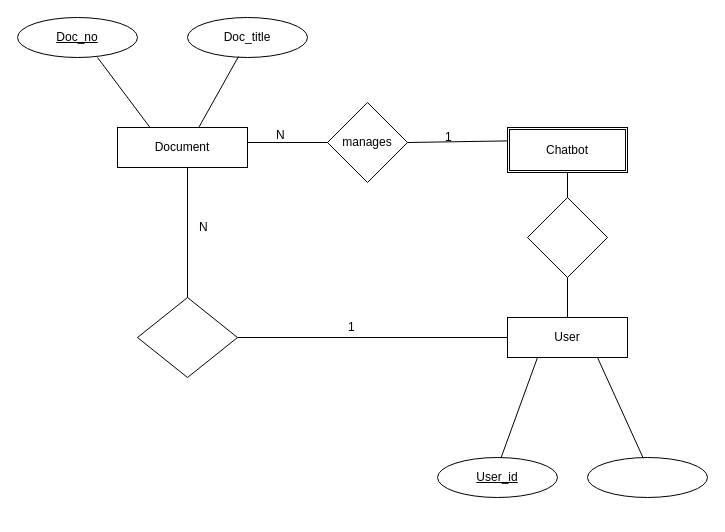
This 725x532 diagram has some shape labels left out. Each missing label, with the centre of its shape:
"answers" goes at (567,237).
"inputs" goes at (187,337).
"Password" goes at (647,477).
